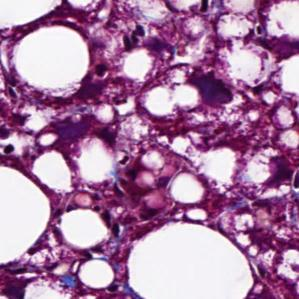inflammation: (122, 19, 178, 68), (116, 161, 161, 219)
